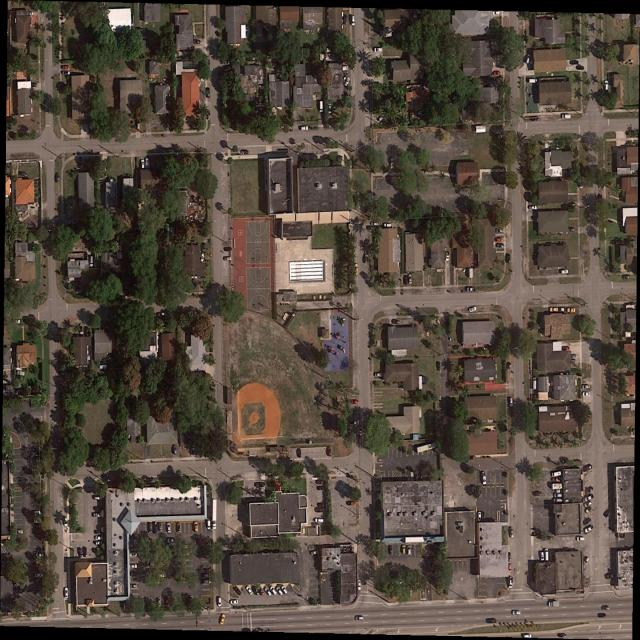large-vehicle: (532, 377, 537, 390), (549, 601, 559, 607), (562, 114, 571, 119), (529, 79, 537, 82)
small-vehicle: (213, 499, 217, 530), (481, 471, 487, 486), (603, 508, 612, 518), (605, 571, 614, 580), (245, 585, 253, 595), (280, 585, 288, 595), (220, 613, 226, 626), (264, 586, 271, 597), (233, 586, 241, 595), (257, 587, 264, 597), (251, 586, 258, 596), (276, 587, 283, 597), (270, 586, 277, 596), (583, 517, 591, 525), (584, 486, 592, 494), (584, 494, 592, 502), (584, 500, 592, 508), (505, 363, 512, 372), (255, 481, 265, 487), (315, 507, 325, 513), (585, 526, 593, 533), (583, 465, 591, 472), (469, 306, 477, 313), (509, 527, 514, 538), (486, 618, 497, 623), (552, 471, 561, 477), (491, 71, 500, 77), (545, 548, 549, 561), (389, 159, 394, 169), (526, 54, 531, 64), (166, 538, 174, 544), (19, 171, 27, 177), (582, 391, 590, 397), (577, 536, 585, 542), (355, 615, 363, 621), (389, 545, 393, 557), (345, 76, 350, 85), (584, 557, 589, 566), (558, 633, 567, 638), (600, 605, 609, 610), (452, 345, 461, 350), (549, 307, 558, 312), (494, 237, 503, 242), (560, 269, 569, 274), (351, 15, 355, 26), (201, 251, 205, 262), (404, 275, 408, 286), (585, 507, 591, 514), (311, 549, 318, 555), (95, 536, 103, 541), (149, 523, 153, 533), (34, 518, 42, 523), (167, 523, 171, 533), (194, 523, 198, 533), (315, 518, 323, 523), (36, 553, 44, 558), (374, 47, 382, 52), (145, 158, 149, 168), (61, 64, 69, 69), (374, 372, 382, 377), (365, 253, 369, 263), (540, 551, 544, 561), (478, 512, 482, 522), (569, 354, 577, 359), (598, 613, 606, 618), (554, 498, 562, 503), (561, 346, 569, 351), (605, 80, 609, 90), (157, 573, 165, 578), (203, 580, 211, 585), (509, 397, 513, 407), (391, 319, 399, 324), (467, 287, 475, 292), (408, 274, 412, 284), (176, 523, 180, 532), (34, 574, 43, 578), (300, 126, 309, 130), (223, 247, 232, 251), (508, 552, 512, 561), (511, 611, 520, 615), (436, 362, 440, 371), (94, 529, 101, 534), (33, 511, 40, 516), (130, 565, 137, 570), (36, 562, 43, 567), (193, 39, 200, 44), (348, 501, 355, 506), (317, 502, 324, 507), (534, 491, 541, 496), (65, 587, 68, 598), (154, 523, 157, 534), (328, 103, 331, 114), (90, 256, 93, 267), (509, 563, 512, 574), (509, 577, 512, 588), (157, 598, 160, 609), (580, 178, 583, 189), (202, 243, 206, 251), (92, 513, 100, 517), (130, 553, 138, 557), (350, 400, 358, 404), (12, 319, 20, 323), (366, 226, 374, 230), (582, 385, 590, 389), (569, 360, 577, 364), (201, 569, 209, 573), (570, 61, 578, 65), (529, 206, 537, 210), (568, 309, 576, 313), (495, 229, 503, 233), (231, 600, 237, 605), (320, 101, 323, 111), (142, 159, 145, 169), (56, 172, 59, 182), (328, 447, 331, 457), (297, 448, 300, 458), (174, 445, 177, 455), (403, 545, 406, 555), (166, 597, 169, 607), (358, 581, 361, 591), (623, 275, 629, 280), (94, 495, 101, 499), (15, 530, 22, 534), (316, 486, 323, 490), (316, 481, 323, 485), (198, 78, 205, 82), (26, 11, 33, 15), (350, 421, 357, 425), (224, 257, 231, 261), (93, 506, 100, 510), (576, 66, 583, 70), (202, 574, 209, 578), (496, 243, 503, 247), (80, 549, 83, 558), (83, 548, 86, 557), (207, 521, 210, 530), (218, 598, 221, 607), (159, 523, 162, 532), (79, 325, 82, 334), (85, 327, 88, 336), (408, 546, 411, 555), (507, 254, 510, 263), (384, 223, 392, 226), (554, 478, 560, 482), (554, 494, 562, 497), (568, 227, 574, 231), (207, 87, 209, 98), (130, 585, 137, 588), (62, 71, 69, 74), (96, 542, 102, 545), (371, 222, 377, 225), (190, 597, 192, 606)
